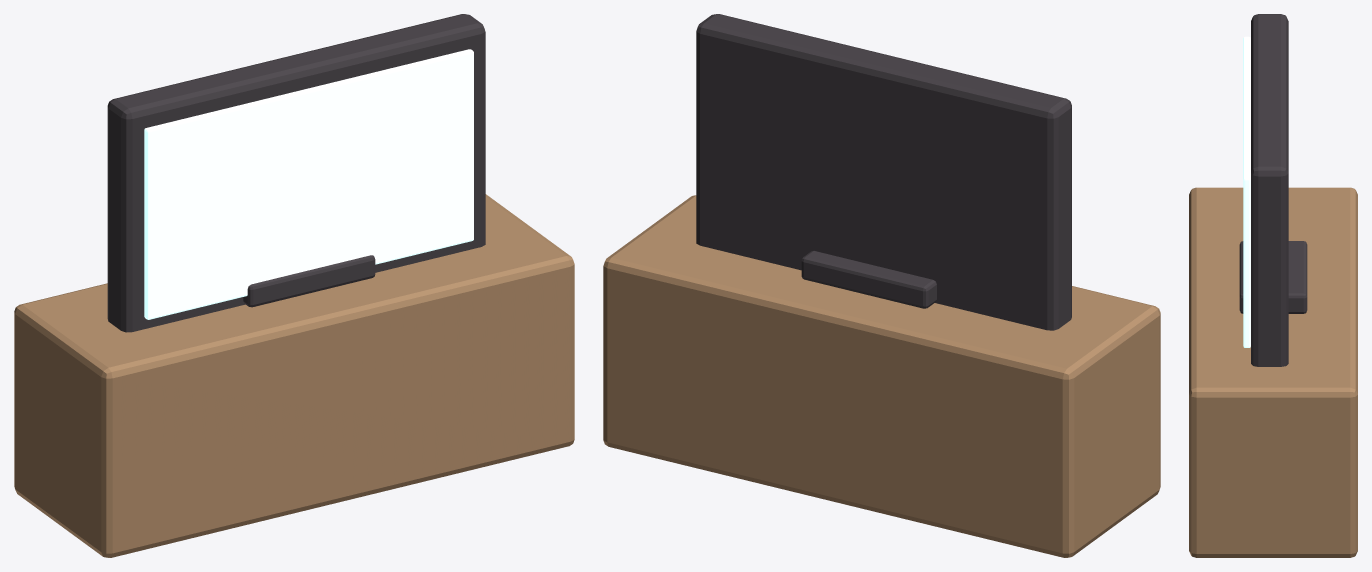
Rendered from TVStand.fbx.
3 renders of one model, left to right at view 1: azimuth 30°, elevation 25°; view 2: azimuth 150°, elevation 25°; view 3: azimuth 270°, elevation 25°, orthographic. The views are drawn at different scales.
Parts seen in each view (by area): view 1: TVStand; view 2: TVStand; view 3: TVStand.
Boxes of the visible parts, bbox=[...] form: TVStand: bbox=[14, 14, 574, 557]; TVStand: bbox=[603, 14, 1160, 557]; TVStand: bbox=[1189, 14, 1357, 557].
Size of the model in its own units: 130 by 108 by 45.
